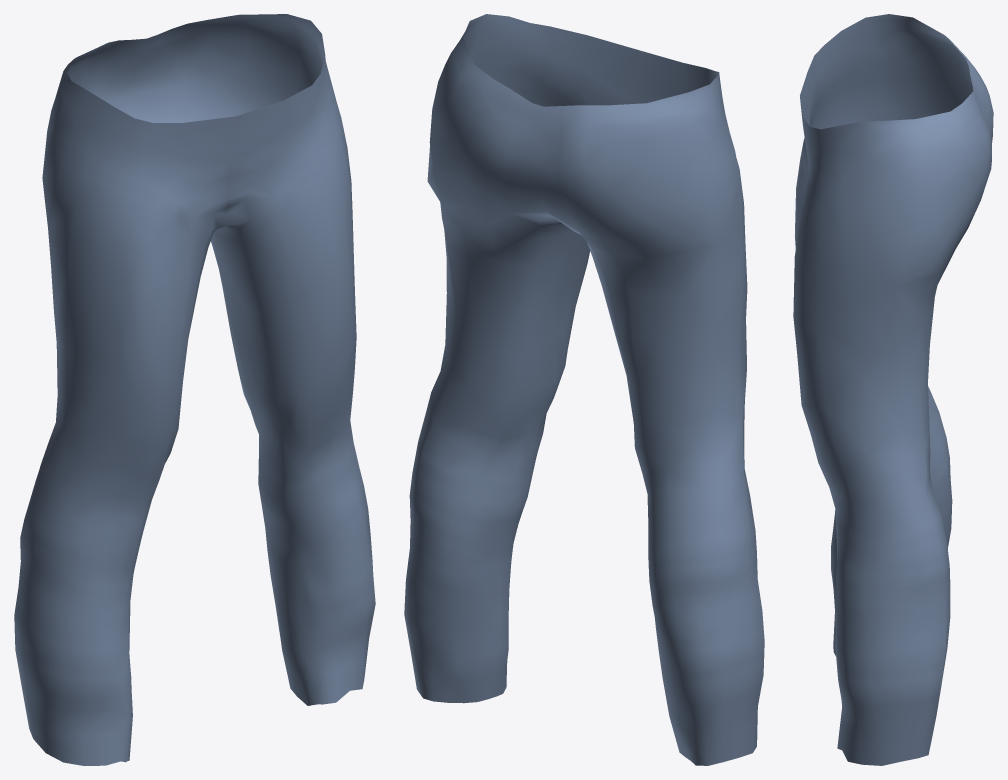
Rendered from trousers_female.glb.
3 renders of one model, left to right at view 1: azimuth 30°, elevation 25°; view 2: azimuth 150°, elevation 25°; view 3: azimuth 270°, elevation 25°, orthographic. The views are drawn at different scales.
Visible parts, largest first — view 1: jeans; view 2: jeans; view 3: jeans.
Boxes of the visible parts, x1,y1,x2,y2 form: jeans: (14,14,375,765); jeans: (404,14,764,765); jeans: (793,14,993,765).
Size of the model in its own units: 0.449 by 0.8624 by 0.2435.
